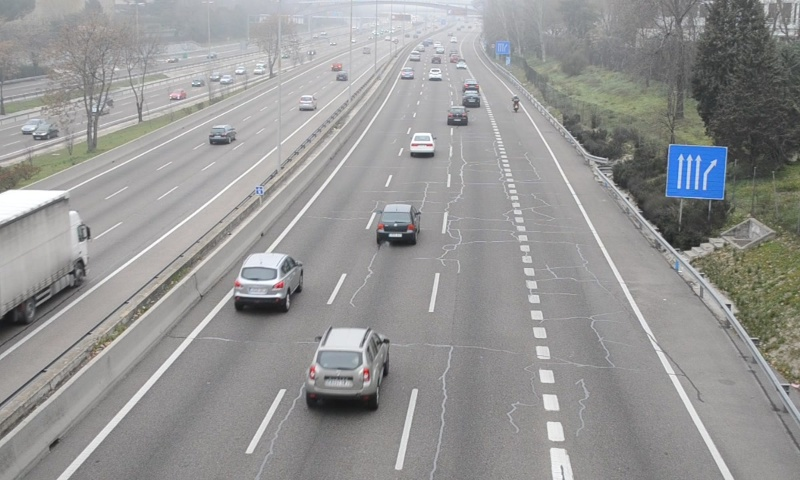car: (306, 327, 390, 396), (235, 253, 304, 299), (376, 204, 420, 241), (409, 132, 435, 155), (446, 106, 469, 126), (462, 90, 482, 106), (463, 78, 481, 92)
motorcycle: (512, 95, 521, 113)
